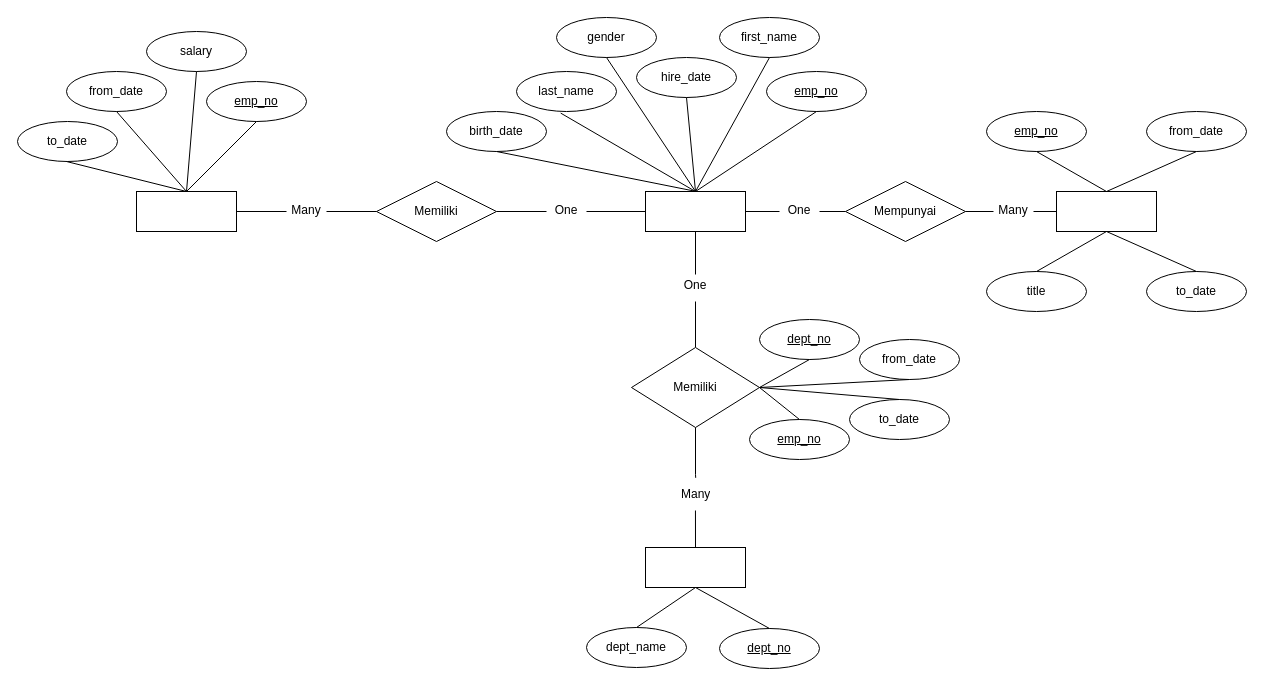
Some shapes in this 1264 by 686 pixel diagram are drawn without their labels. Each missing label, with the centre of its shape:
Departements: point (695, 567)
Employees: point (695, 211)
Salaries: point (186, 211)
Titles: point (1106, 211)
